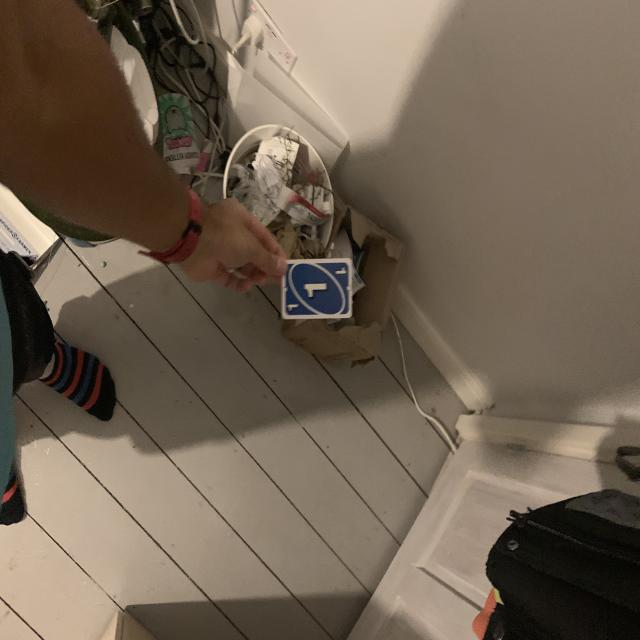lblue-1: (331, 265, 349, 278)
